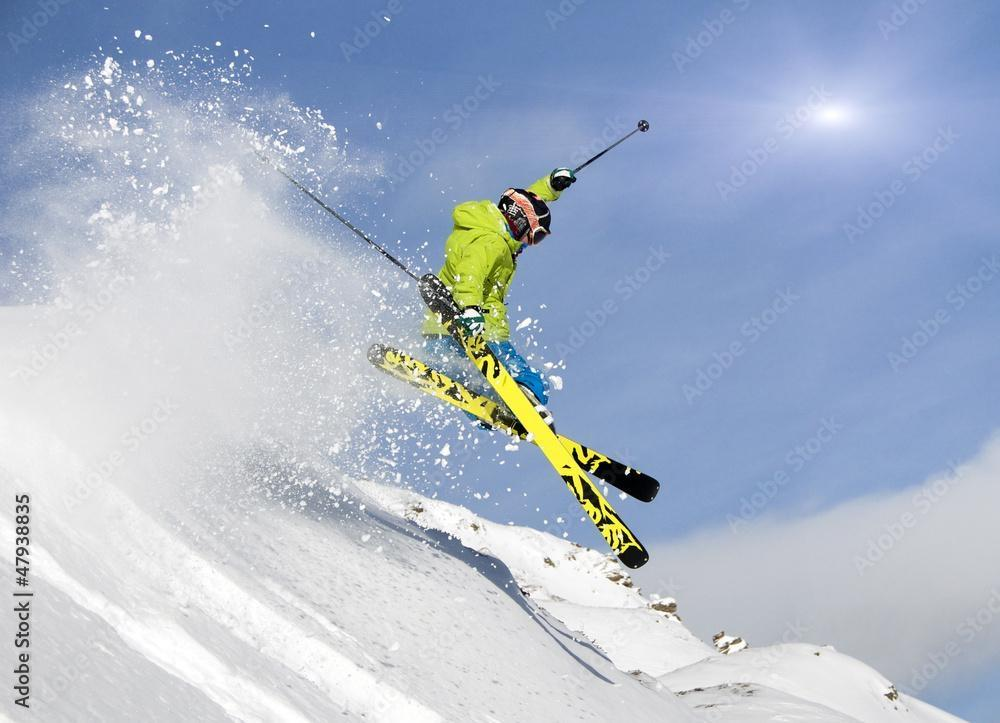Skis: (371, 264, 673, 572)
